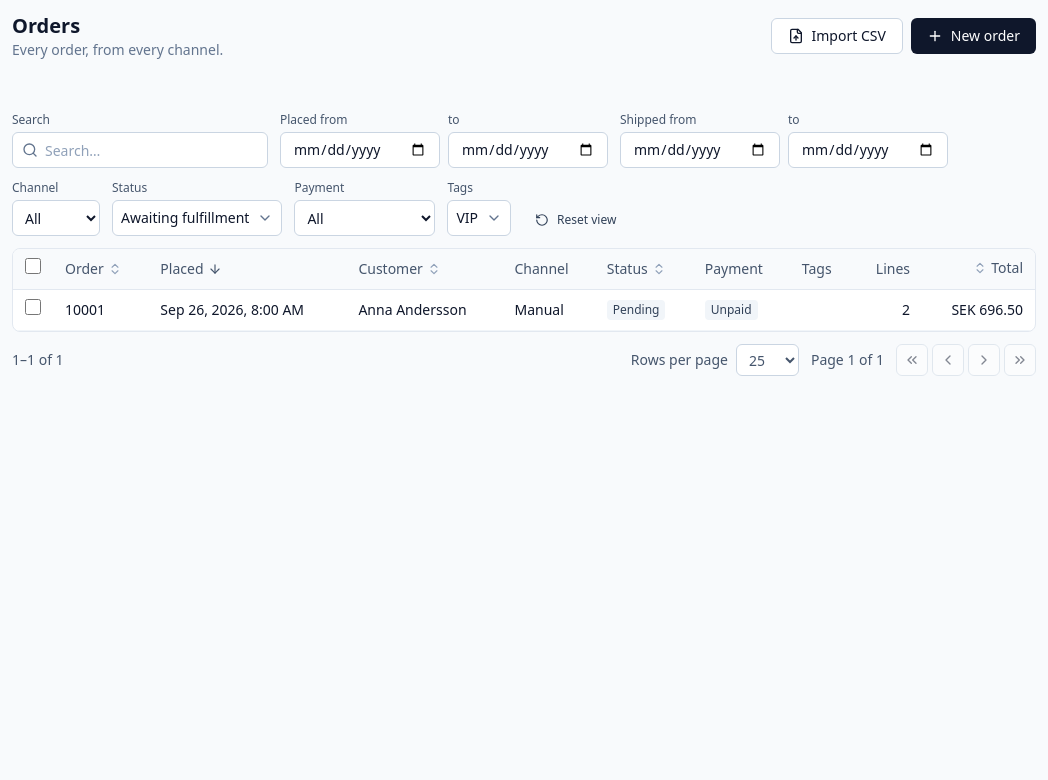
Test: the order list › reads statuses and tags from older single-value links and the dashboard
Expected: the link "10001" is shown, [65, 300, 105, 319]
Click the button named "Status Awaiting fulfillment" at {"x": 197, "y": 218}, box [112, 200, 282, 236]
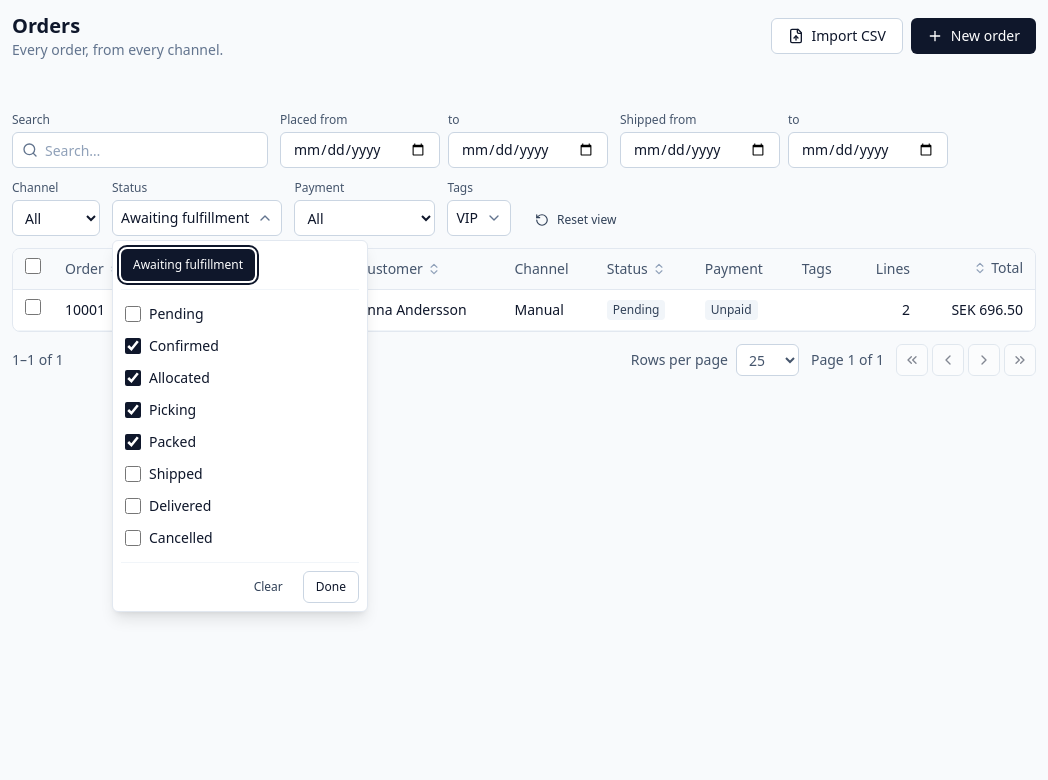
Result: the checkbox labelled "Picking" is checked at [125, 402, 141, 418]
Result: the checkbox labelled "Pending" is not checked at [125, 306, 141, 322]
Click the button "Clear" at {"x": 268, "y": 587}, box [242, 571, 295, 603]
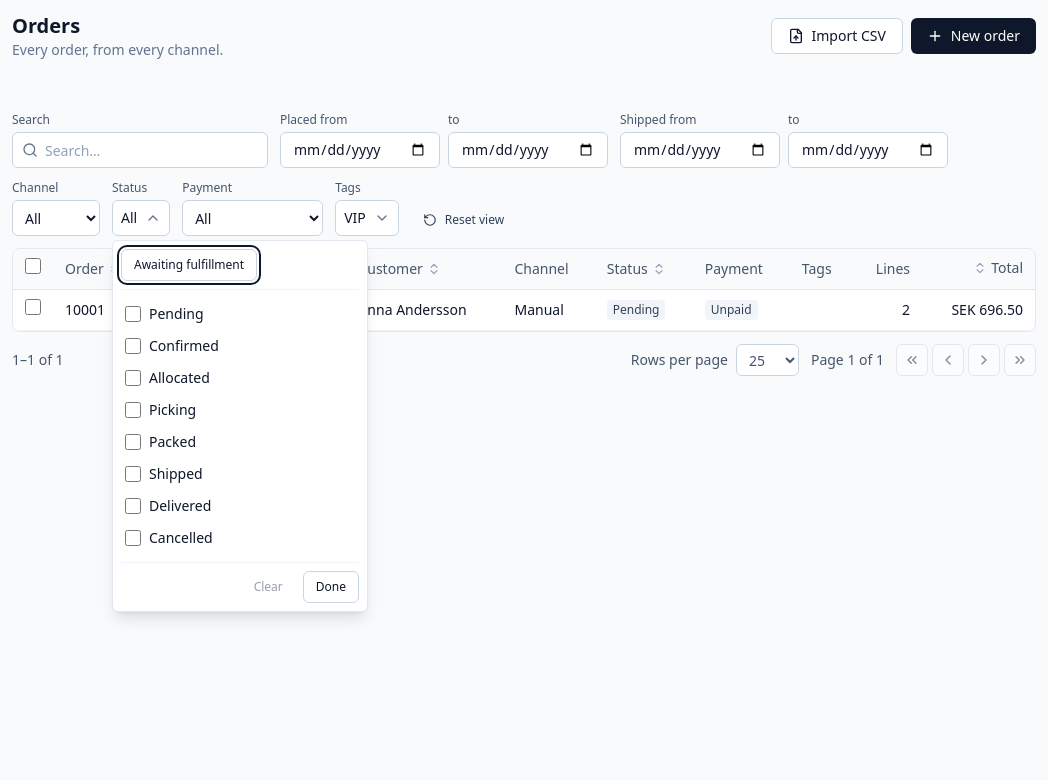
Note: The tag from the link shows, and stays chosen, before the tag list has loaded.
Click the button named "Tags VIP" at {"x": 367, "y": 218}, box [335, 200, 399, 236]
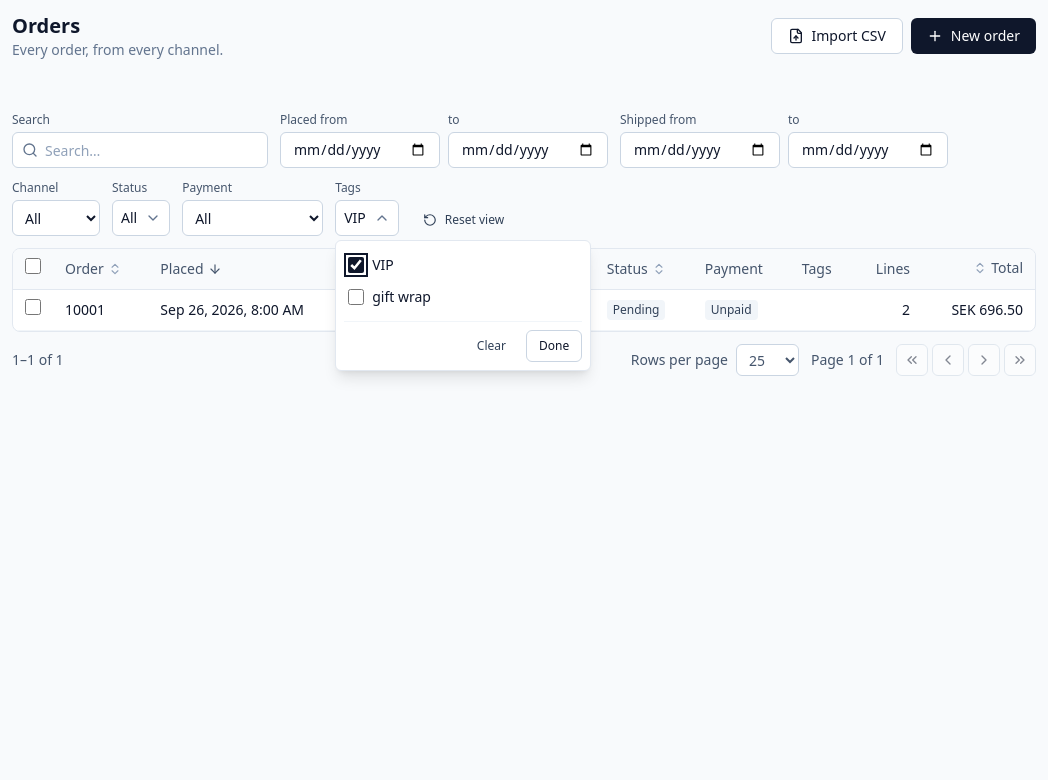
Result: the checkbox labelled "VIP" is checked at [348, 257, 364, 273]
